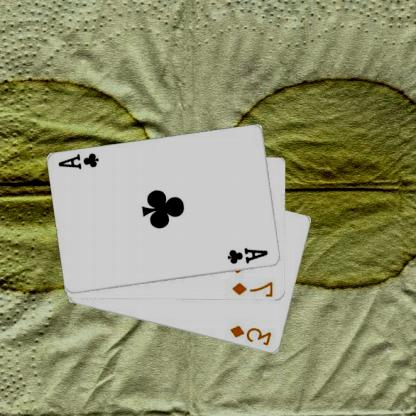3D: (229, 323, 275, 348)
7D: (232, 279, 276, 296)
AC: (227, 245, 271, 266), (58, 151, 102, 171)
